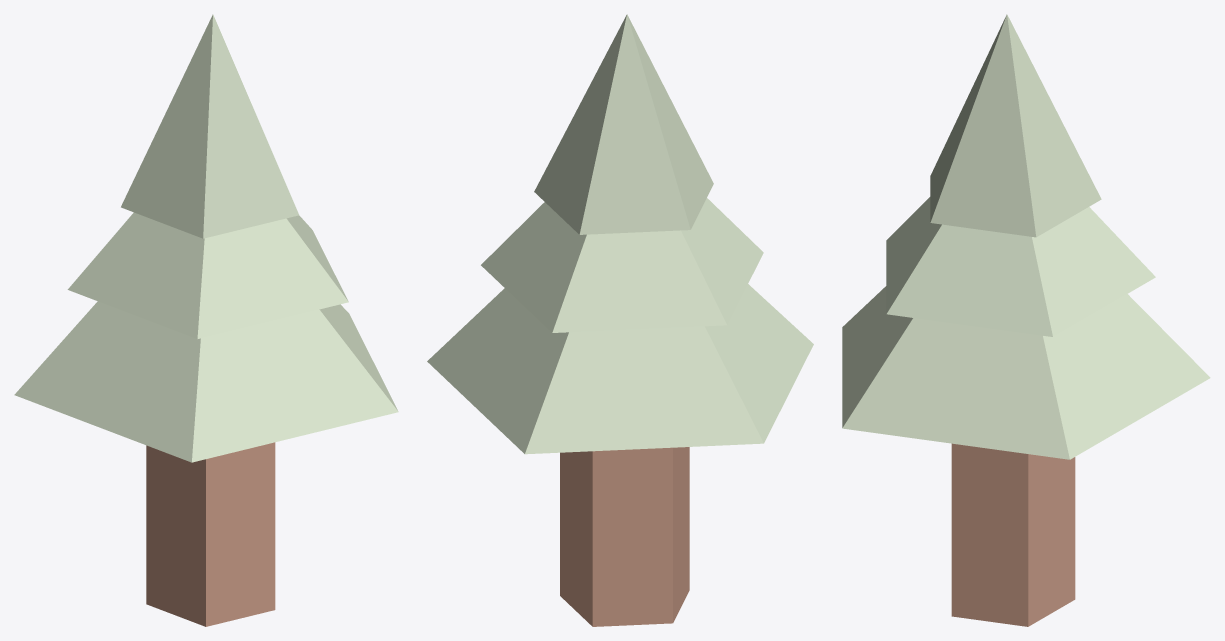
Rendered from treem.fbx.
3 views of the same model, side by side, from view 1: azimuth 30°, elevation 25°; view 2: azimuth 150°, elevation 25°; view 3: azimuth 270°, elevation 25° (orthographic).
Parts seen in each view (by area): view 1: treem; view 2: treem; view 3: treem.
Boxes of the visible parts, x1,y1,x2,y2 form: treem: [14, 14, 398, 626]; treem: [427, 14, 813, 626]; treem: [842, 14, 1210, 626].
Size of the model in its own units: 409 by 682 by 389.
